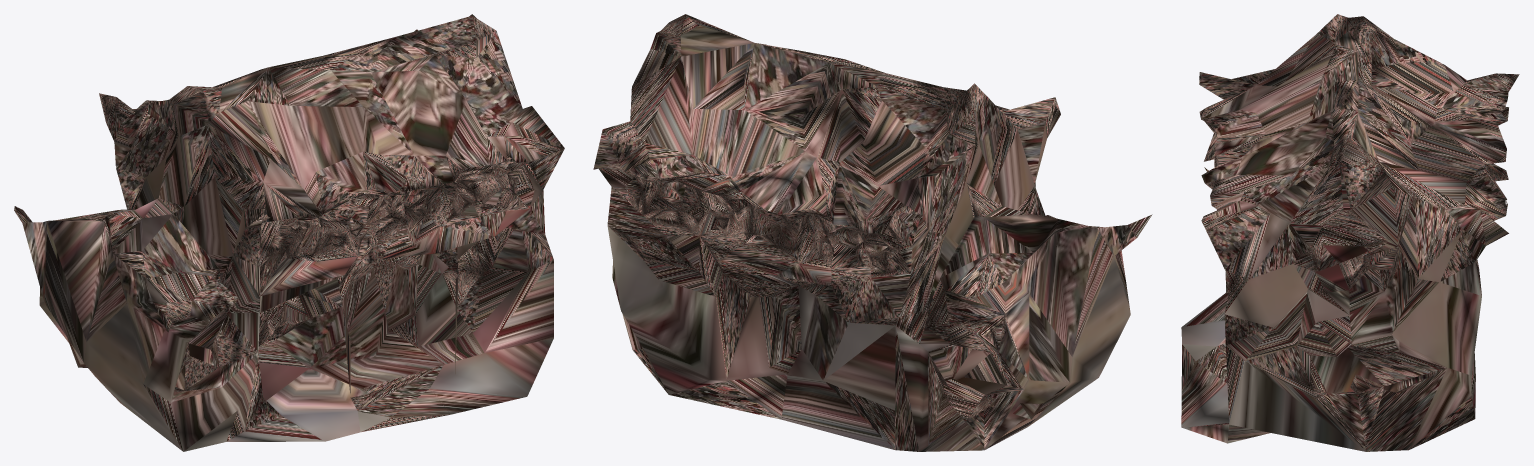
The model's file is bq_inn.lod2.glb.
3 views of the same model, side by side, from view 1: azimuth 30°, elevation 25°; view 2: azimuth 150°, elevation 25°; view 3: azimuth 270°, elevation 25° (orthographic). The views are drawn at different scales.
Bounding box in the file's own units: 1.89 × 1.38 × 1.4.
Materials: 1 (1 with a texture image).
